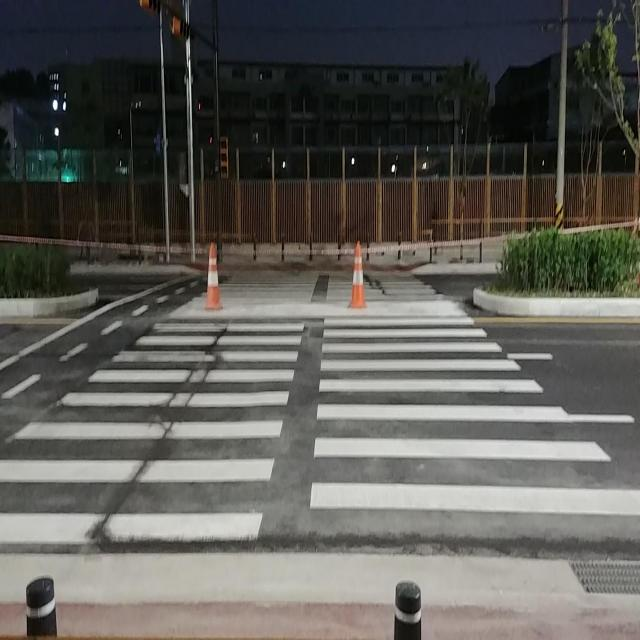횡단보도: (0, 266, 640, 546)
